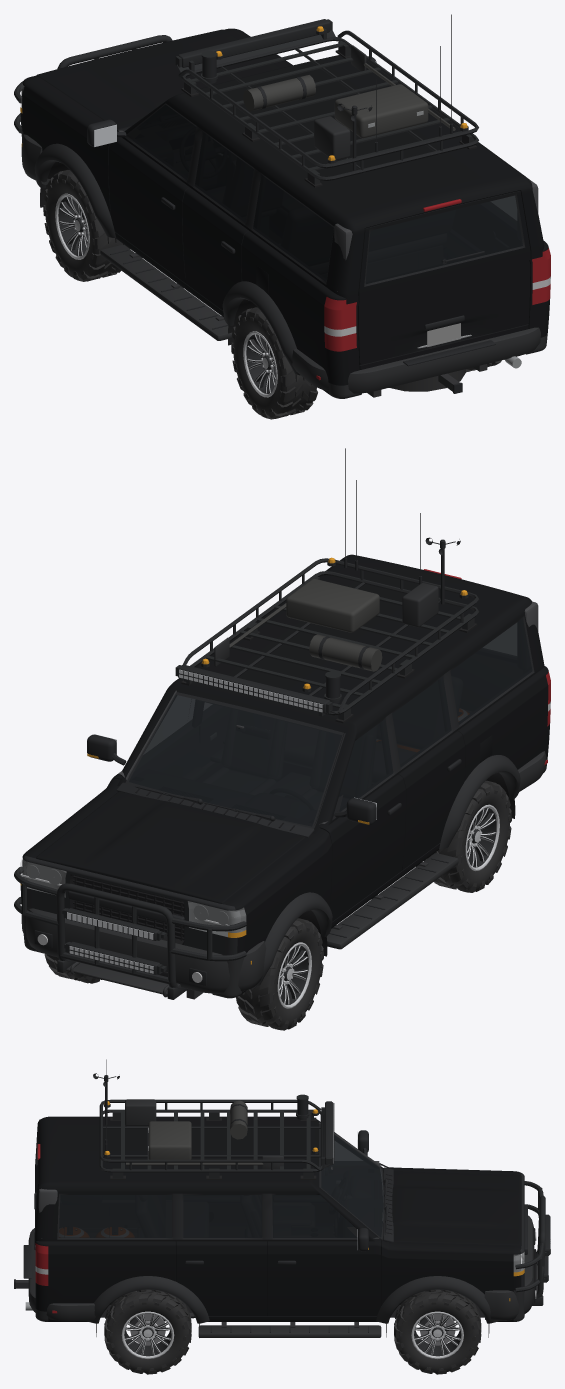
Rendered from chaser.glb.
3 views of the same model, one above another, from view 1: azimuth 30°, elevation 25°; view 2: azimuth 150°, elevation 25°; view 3: azimuth 270°, elevation 25° (orthographic). The views are drawn at different scales.
Visible parts, largest first — view 1: Body, Liftgate, RoofRack, Hood, Bumpers, Wheel_RL, Wheel_FL, FenderFlares, ExteriorTrim, BrushGuard, Underbody, Mirrors (+2 smaller); view 2: Body, RoofRack, Windshield, Hood, BrushGuard, Bumpers, Wheel_FL, ExteriorTrim, Wheel_RL, FenderFlares, Grille, HeadlampLenses (+3 smaller); view 3: Body, RoofRack, Hood, Wheel_FR, Wheel_RR, FenderFlares, Windshield, Bumpers, ExteriorTrim, BrushGuard, Mirrors, Headliner (+1 smaller).
Part boxes in pixels (x1,y1,x2,y2): Body: (20, 28, 550, 398); Liftgate: (358, 190, 530, 365); RoofRack: (175, 14, 478, 187); Hood: (36, 29, 280, 129); Bumpers: (21, 134, 540, 393); Wheel_RL: (231, 307, 317, 419); Wheel_FL: (43, 170, 130, 281); FenderFlares: (34, 143, 300, 375); ExteriorTrim: (21, 126, 461, 380); BrushGuard: (14, 35, 172, 133); Underbody: (367, 356, 521, 397); Mirrors: (87, 56, 376, 146); Body: (20, 554, 550, 998); RoofRack: (175, 448, 478, 723); Windshield: (129, 695, 342, 826); Hood: (36, 791, 305, 903); BrushGuard: (14, 866, 246, 999); Bumpers: (21, 751, 546, 997); Wheel_FL: (236, 918, 323, 1030); ExteriorTrim: (116, 569, 547, 964); Wheel_RL: (424, 780, 511, 892); FenderFlares: (255, 755, 520, 986); Grille: (68, 875, 184, 940); HeadlampLenses: (20, 858, 246, 937); Body: (35, 1116, 524, 1321); RoofRack: (99, 1059, 334, 1179); Hood: (392, 1171, 521, 1245); Wheel_FR: (394, 1289, 481, 1374); Wheel_RR: (104, 1289, 191, 1374); FenderFlares: (87, 1276, 498, 1323); Windshield: (321, 1135, 383, 1237); Bumpers: (14, 1215, 537, 1321); ExteriorTrim: (37, 1144, 510, 1337); BrushGuard: (515, 1181, 550, 1305); Mirrors: (357, 1130, 368, 1251); Headliner: (38, 1119, 380, 1212).
Size of the model in its own units: 2.59 by 3.3 by 5.47.
